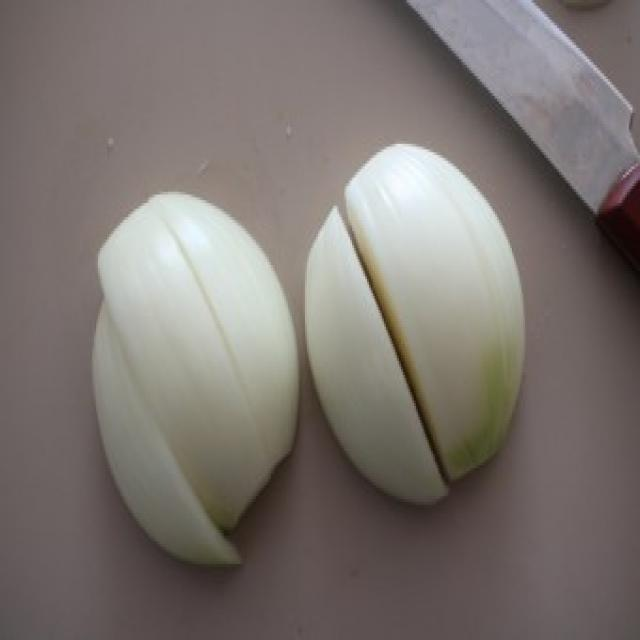onion: (82, 181, 308, 578), (316, 154, 540, 494)
